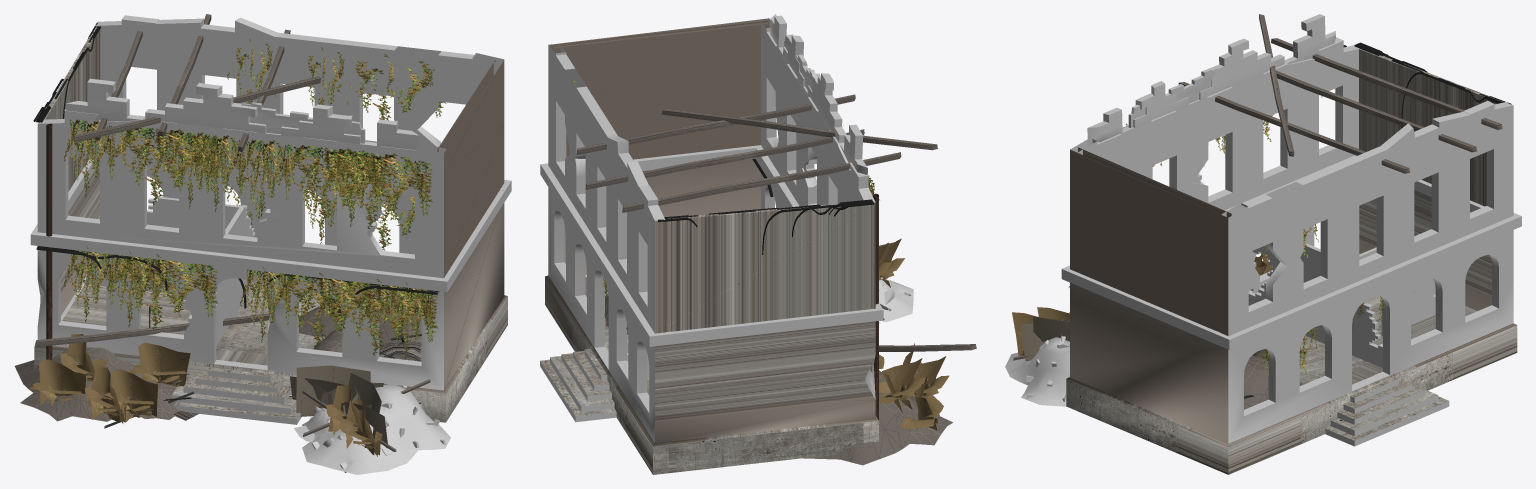
File: house yellow3 LOD0.fbx
The picture shows the model from 3 angles, left to right: view 1: azimuth 30°, elevation 25°; view 2: azimuth 150°, elevation 25°; view 3: azimuth 270°, elevation 25°; orthographic projection. The views are drawn at different scales.
Parts seen in each view (by area): view 1: polymsh76; view 2: polymsh76; view 3: polymsh76.
Part boxes in pixels (x1,y1,x2,y2): polymsh76: (14, 14, 511, 474); polymsh76: (540, 14, 976, 474); polymsh76: (1005, 14, 1521, 474).
Bounding box in the file's own units: 11.39 × 7.48 × 11.54.
